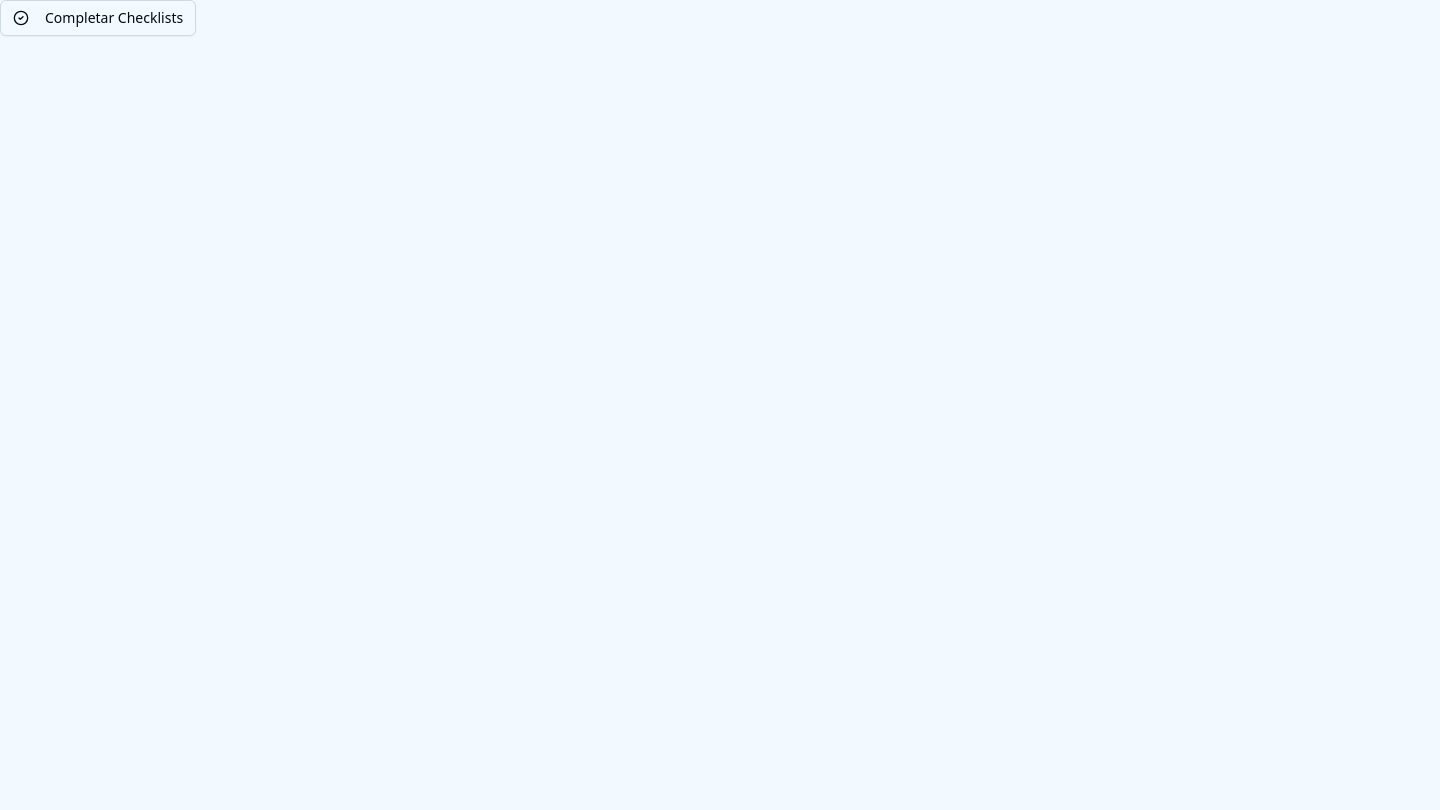
Test: ChecklistCompletionModal › should show delete confirmation dialog
What coordinates should you click on to do the following:
click the button "Completar Checklists"
I would click on:
 (98, 18)
Its box is [0,0,196,36].
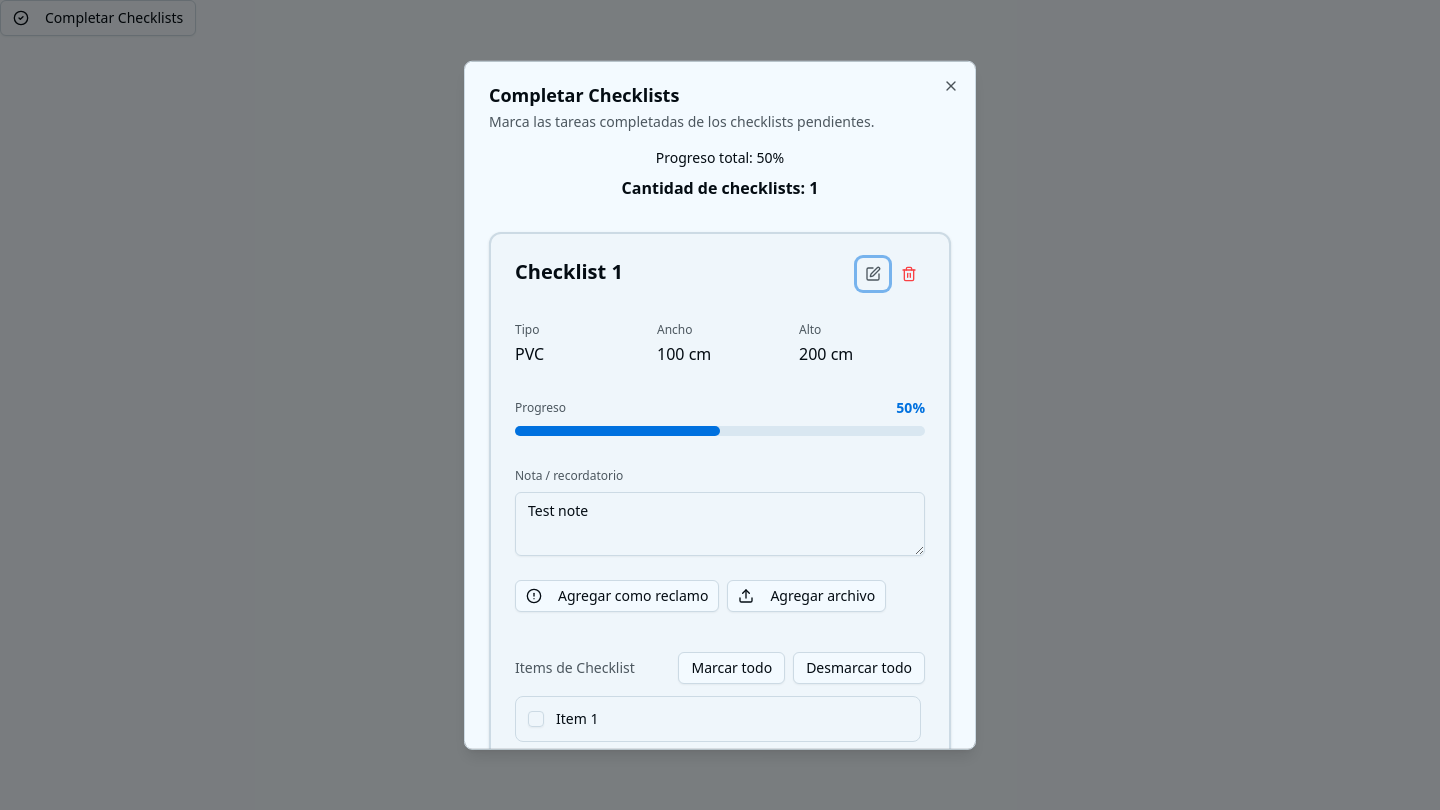
Now the button titled "Eliminar checklist" is shown
What coordinates should you click on to do the following:
click the button titled "Eliminar checklist"
I would click on:
 (909, 274)
Its box is [893,258,925,290].
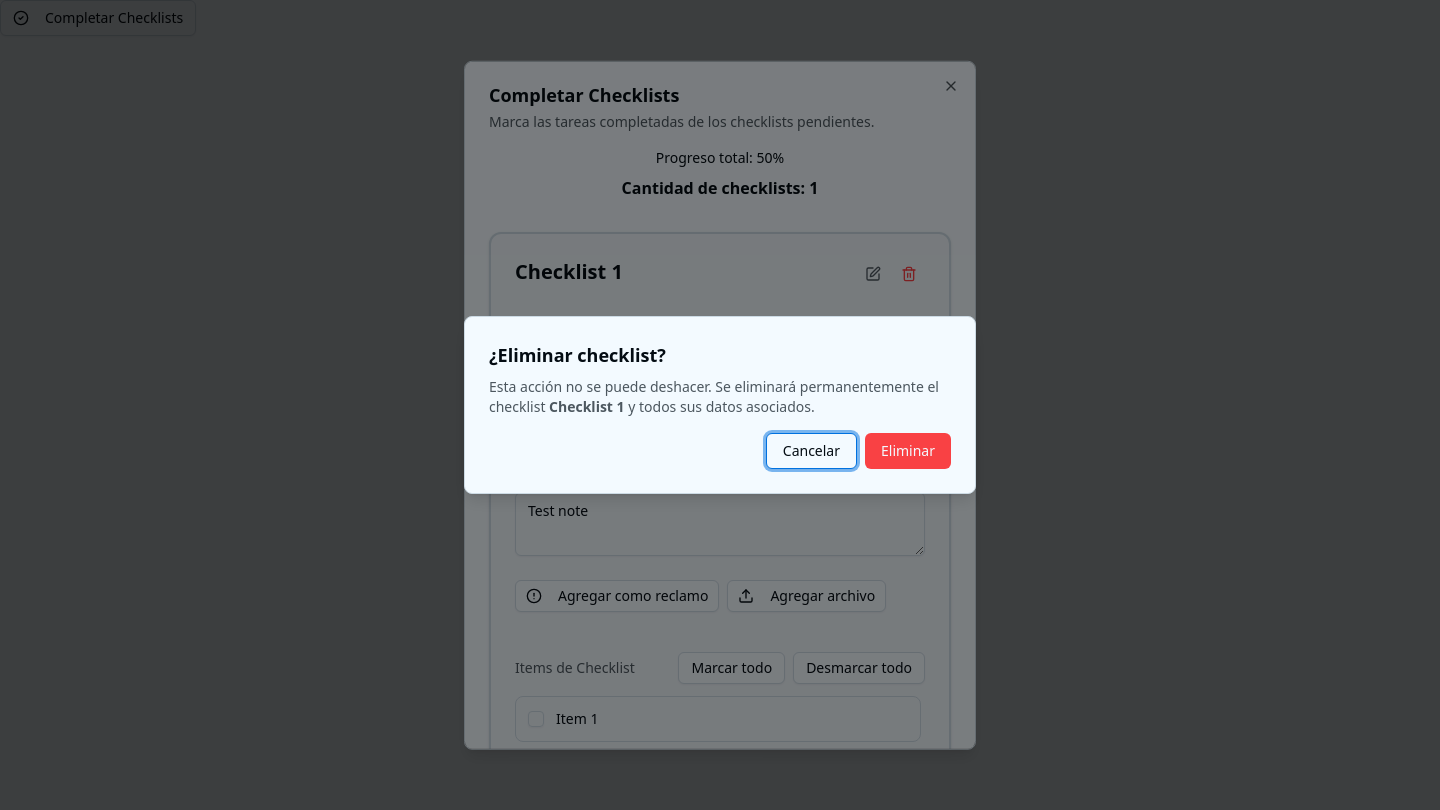
Now the heading "¿Eliminar checklist?" is shown, box [489,343,666,367]
